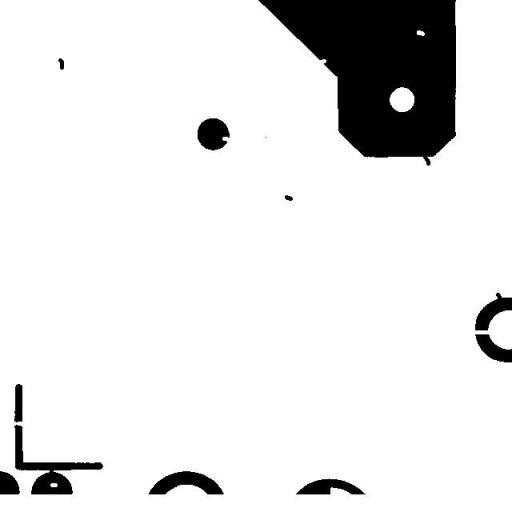copper: (50, 50, 72, 77), (277, 187, 300, 208)
mousebite: (311, 51, 334, 72), (214, 129, 238, 149)
open: (462, 322, 502, 342), (4, 414, 34, 434)
pin-hole: (409, 22, 432, 44), (42, 476, 65, 494)
short: (41, 458, 61, 482)
spur: (414, 143, 438, 173), (488, 285, 509, 310)
